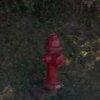Hydrant: (35, 24, 73, 91)
